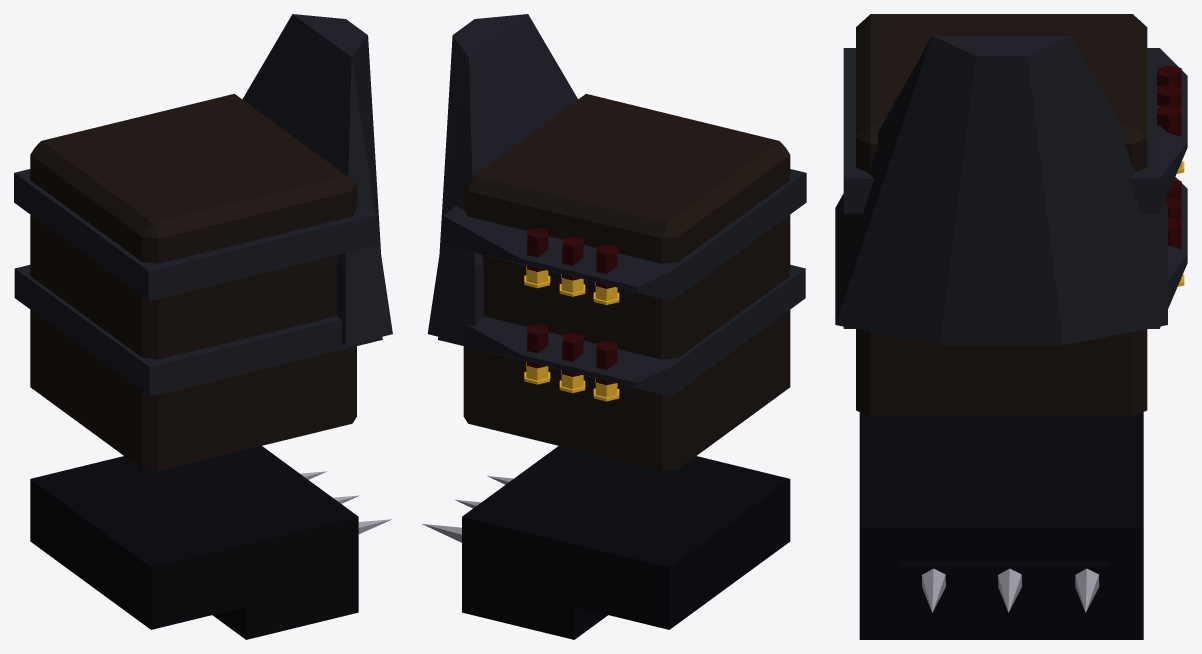
3 views of the same model, side by side, from view 1: azimuth 30°, elevation 25°; view 2: azimuth 150°, elevation 25°; view 3: azimuth 270°, elevation 25° (orthographic). The views are drawn at different scales.
Parts seen in each view (by area): view 1: Meshpart6, Meshpart3, Meshpart5; view 2: Meshpart6, Meshpart3, Meshpart5, Meshpart4, Meshpart1, Meshpart2; view 3: Meshpart5, Meshpart3, Meshpart6, Meshpart4, Meshpart2.
Part boxes in pixels (<box>): Meshpart6: <box>30,94,356,470</box>; Meshpart3: <box>30,446,358,639</box>; Meshpart5: <box>14,14,392,396</box>; Meshpart6: <box>463,94,790,470</box>; Meshpart3: <box>462,446,790,639</box>; Meshpart5: <box>427,14,806,396</box>; Meshpart4: <box>527,227,617,385</box>; Meshpart1: <box>524,265,619,401</box>; Meshpart2: <box>422,476,513,542</box>; Meshpart5: <box>835,36,1187,344</box>; Meshpart3: <box>859,412,1143,639</box>; Meshpart6: <box>856,14,1147,416</box>; Meshpart4: <box>1157,65,1181,249</box>; Meshpart2: <box>922,568,1099,612</box>.
Bounding box in the file's own units: 1.45 × 2.59 × 1.34.
